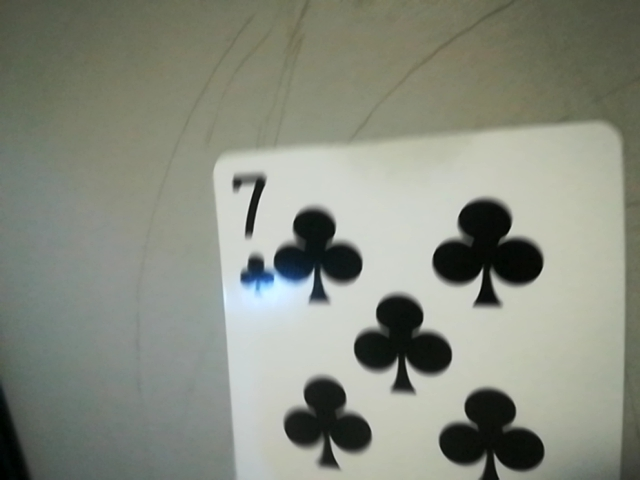mh 7: (219, 159, 275, 295)
